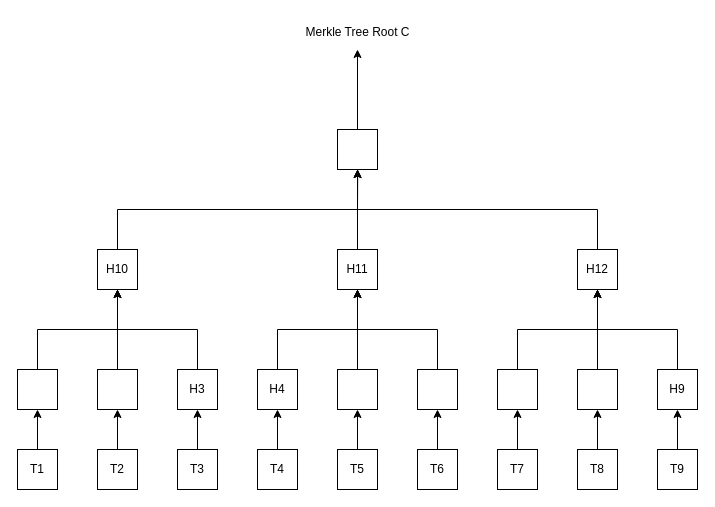
This 715x507 diagram has some shape labels left out. The shapes that lost their labels are listed below. From the top down, each one's box as (x1, y1, x2, y2) in pixels, then its label:
(336, 128, 378, 170): H13
(16, 368, 58, 410): H1
(96, 368, 138, 410): H2
(336, 368, 378, 410): H5
(416, 368, 458, 410): H6
(496, 368, 538, 410): H7
(576, 368, 618, 410): H8
